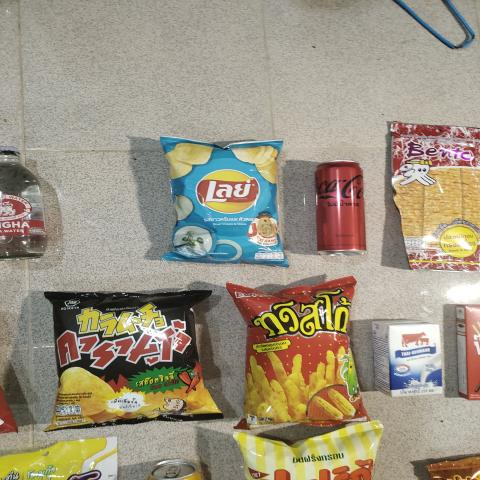bento_red: (386, 124, 480, 264)
coke_red: (316, 157, 369, 256)
karamujo: (57, 292, 204, 428)
lay_blue: (168, 147, 276, 262)
singha_soda: (0, 141, 55, 264)
thai_denmark: (368, 318, 445, 401)
twisco: (231, 284, 364, 420)
